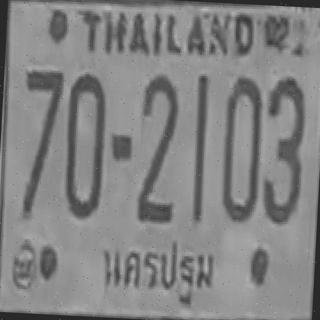N00: (62, 71, 107, 217), (219, 75, 262, 218)
N02: (135, 108, 177, 220)
N03: (260, 75, 306, 223), (260, 87, 305, 222)
N07: (22, 69, 63, 152)
P28: (92, 230, 221, 309)
